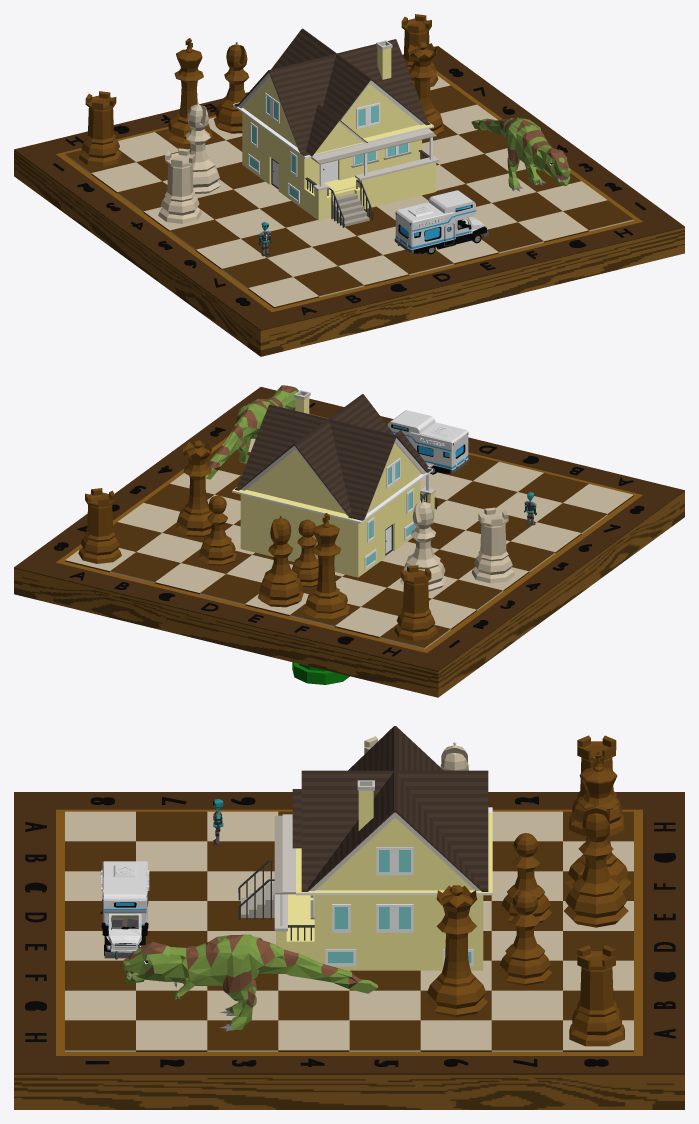
The picture shows the model from 3 angles, top to bottom: view 1: azimuth 30°, elevation 25°; view 2: azimuth 150°, elevation 25°; view 3: azimuth 270°, elevation 25°; orthographic projection. The views are drawn at different scales.
Visible parts, largest first — view 1: Cube.002, Cube.1555, VEHICLES_CAMPER, ANIMAL_TREX; view 2: Cube.002, Cube.1555, VEHICLES_CAMPER, ANIMAL_TREX, UNDERGROUND_PIPES; view 3: Cube.002, Cube.1555, ANIMAL_TREX, VEHICLES_CAMPER.
Boxes of the visible parts, box(x1,y1,x2,y2) form: Cube.002: box(14, 14, 684, 356); Cube.1555: box(233, 28, 439, 227); VEHICLES_CAMPER: box(394, 190, 488, 254); ANIMAL_TREX: box(471, 117, 570, 191); Cube.002: box(14, 387, 684, 697); Cube.1555: box(232, 390, 437, 577); VEHICLES_CAMPER: box(387, 410, 469, 474); ANIMAL_TREX: box(205, 385, 298, 479); UNDERGROUND_PIPES: box(292, 662, 349, 684); Cube.002: box(14, 735, 684, 1109); Cube.1555: box(238, 726, 492, 970); ANIMAL_TREX: box(122, 934, 377, 1031); VEHICLES_CAMPER: box(100, 861, 149, 959).
Size of the model in its own units: 3981 by 2066 by 4012.
Materials: 40 (2 with a texture image).
